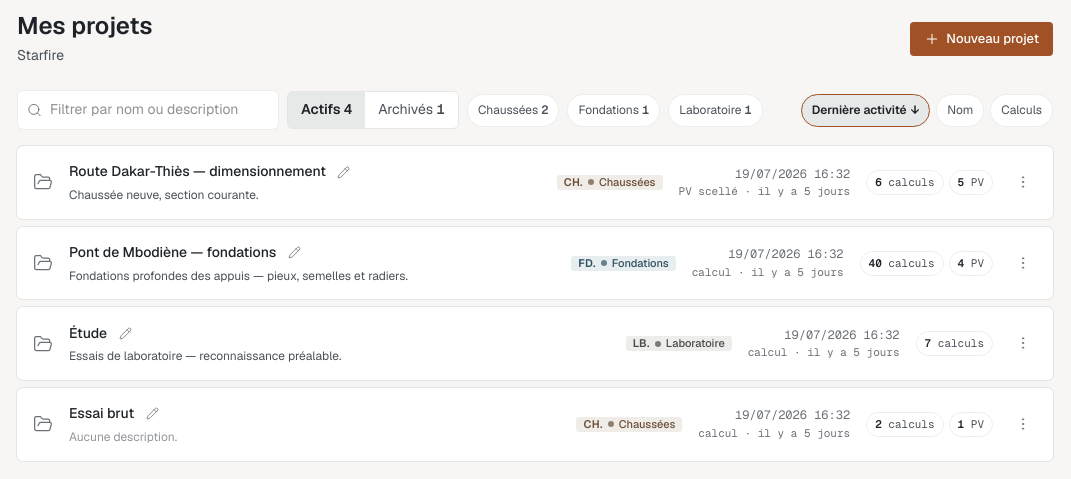
Test: Vue Archivés — suppression définitive (cas d’usage principal côté serveur) › #1 GIVEN la vue Archivés — WHEN un OWNER — THEN l’action de suppression définitive est proposée
Step 1. Click the button "Archivés 1" → (412, 110), box [365,92,458,128]
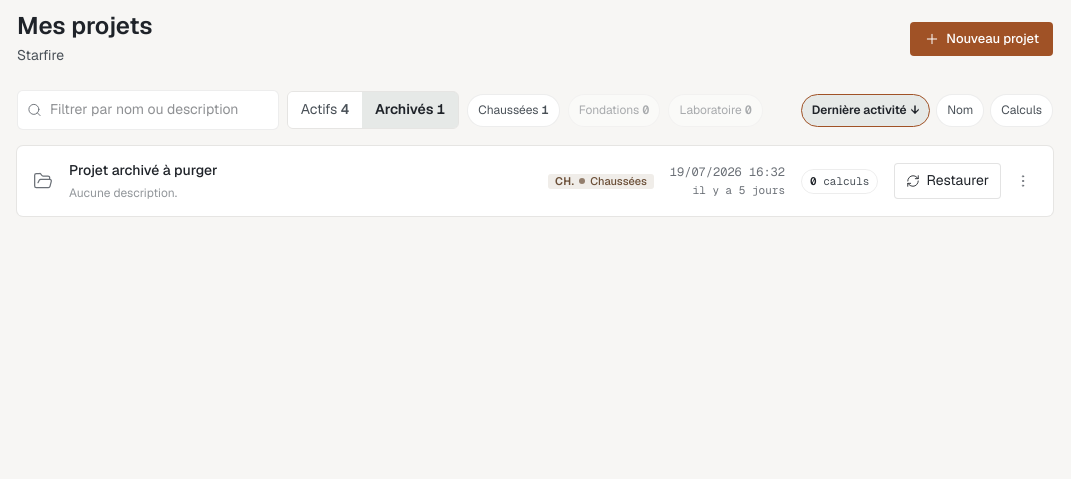
Step 2. Click the button named "Actions sur le projet Projet archivé à purger" → (1023, 181), box [1009,167,1037,195]
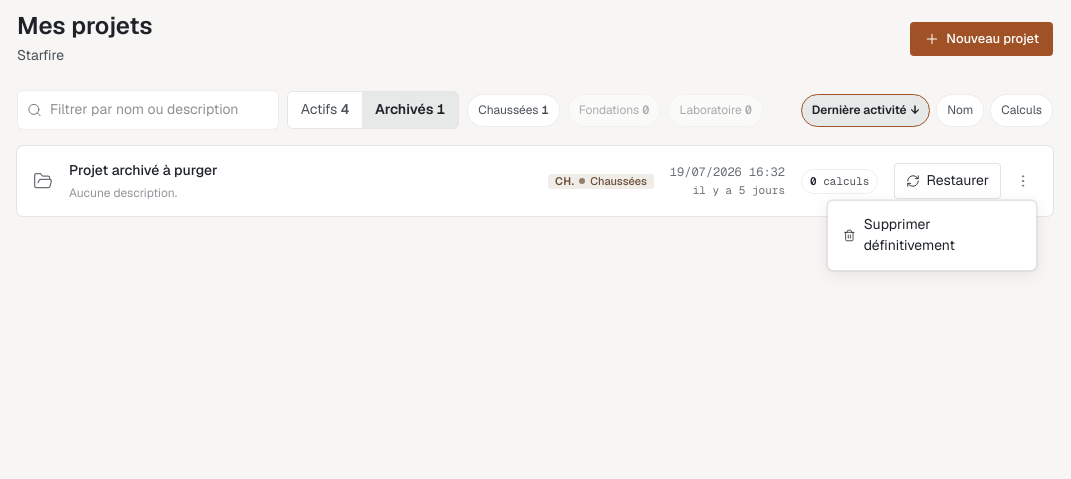
Result: the button "Restaurer" is shown at [894,164,1001,199]
Result: the menu item "Supprimer définitivement" is shown at [833,206,1031,265]
